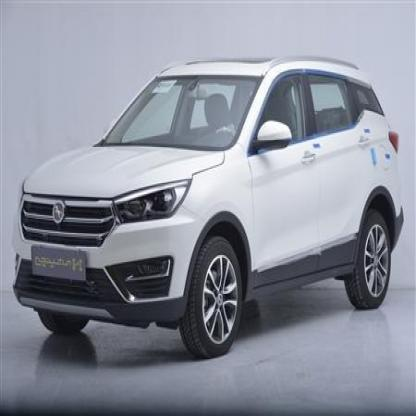Car: (0, 55, 412, 343)
